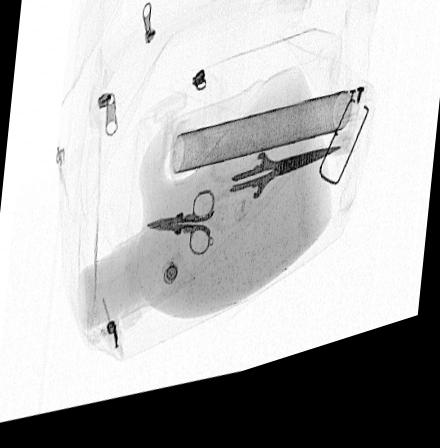Scissors: (196, 153, 345, 247), (145, 201, 215, 269)
